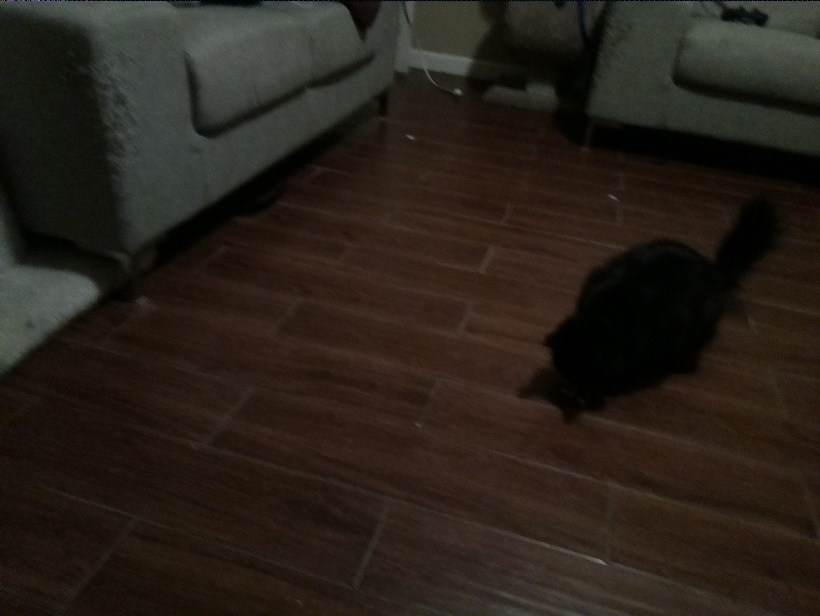cat: (531, 194, 787, 408)
